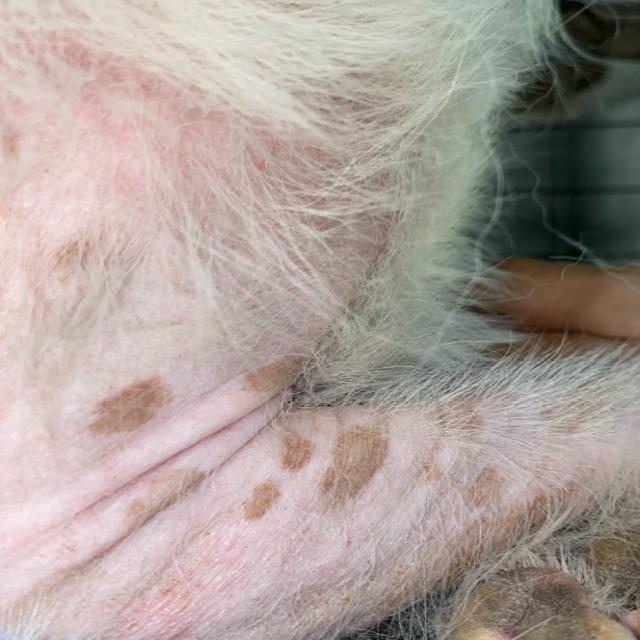demodicosis: (44, 290, 325, 606)
